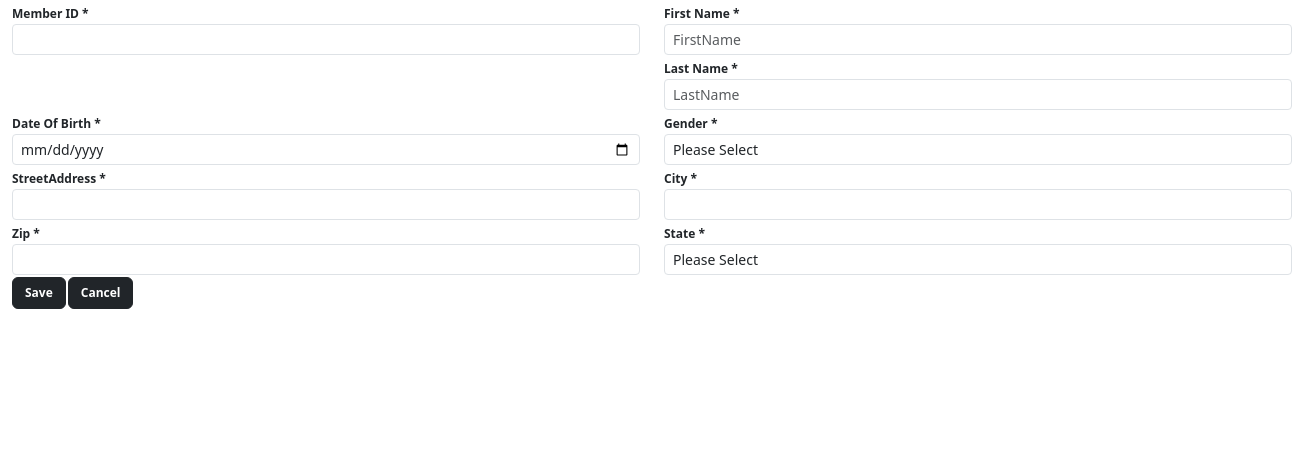
MemberQuickCreateForm Component › shows validation errors when submitting empty form
Step 1. Click the button "Save" → (39, 293), box [12, 277, 66, 309]
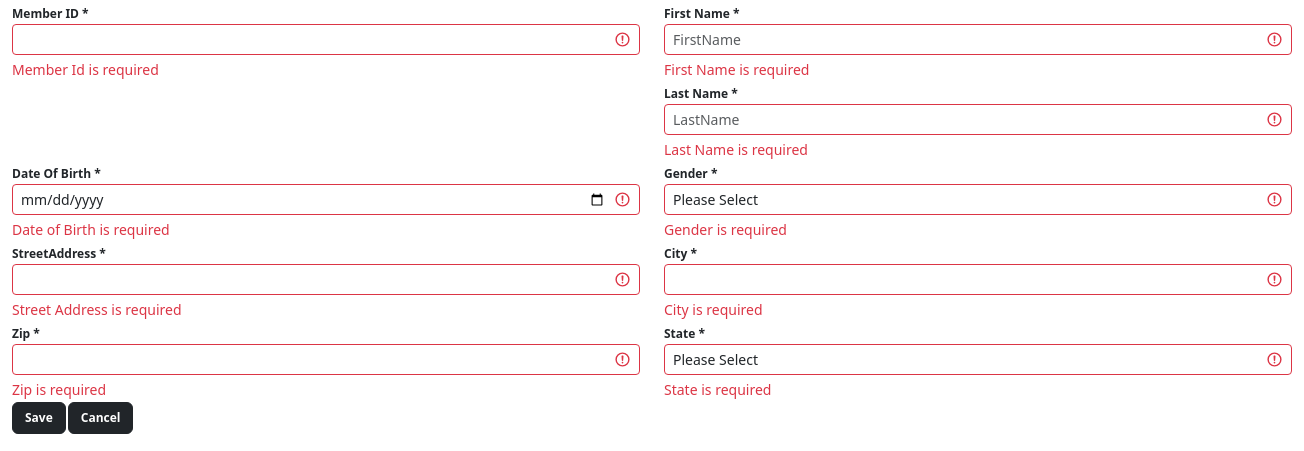
Expected: the text "Member Id is required" is shown, [12, 60, 159, 79]
